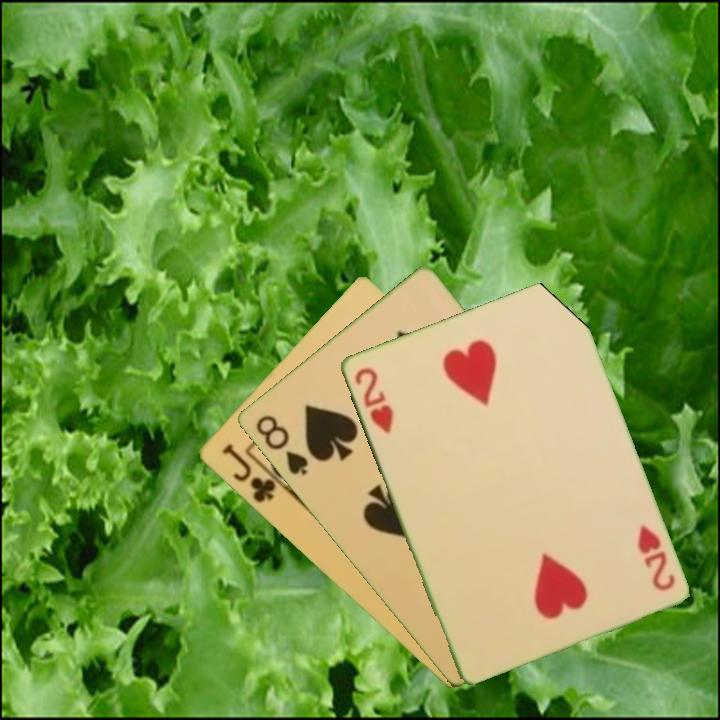2h: (350, 363, 396, 437), (633, 521, 678, 594)
8s: (251, 411, 311, 479)
Jc: (218, 440, 279, 506)
